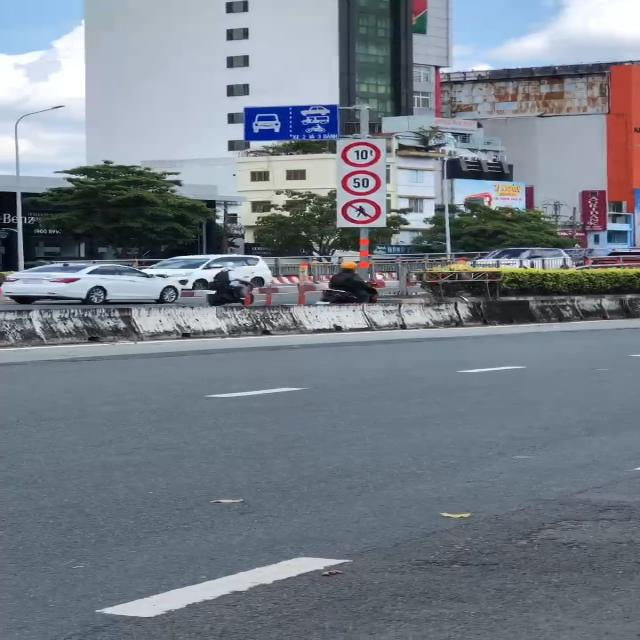Bien bao cam nguoi di bo: (338, 197, 383, 227)
Bien bao toc do toi da cho phep: (340, 168, 384, 197)
